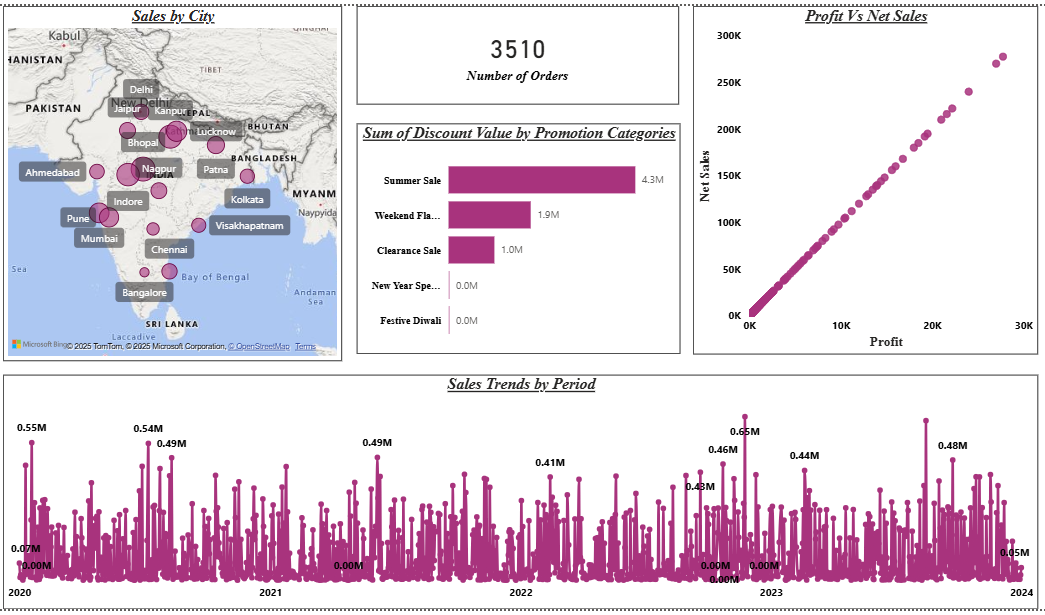

Layout of this report page (visuals, bound fields, positions):
{"tool":"powerbi","page":{"name":"Overview","canvas":[1280,720],"ordinal":0},"visuals":[{"type":"lineChart","title":"Sales Trends by Period","fields":{"Y":["Sum(Fact Table.Net Sales  )"],"Category":["Fact Table.Date (dd/mm/yyyy).Variation.Date Hierarchy.Year"]},"box":[23.2,440.2,1236.3,280],"z":0},{"type":"scatterChart","title":"Profit Vs Net Sales  ","fields":{"X":["Fact Table.Profit"],"Y":["Fact Table.Net Sales  "]},"box":[847.4,0,412.1,415.8],"z":1000},{"type":"barChart","title":"Sum of Discount Value   by Promotion Categories","fields":{"Y":["Sum(Fact Table.Discount Value  )"],"Category":["Dim Promotion.Promotion Name"]},"box":[446.3,140.6,386.4,275.1],"z":2000},{"type":"map","title":"Sales   by City","fields":{"Category":["Dim Customers.City"],"Size":["Sum(Fact Table.Net Sales  )"]},"box":[23.2,0,404.8,424.3],"z":3000},{"type":"card","fields":{"Values":["Count(Fact Table.Order ID)"]},"box":[446.3,0,385.2,117.4],"z":4000}]}

Visuals, with their boxes in screenshot pixels (x1, y1, x2, y2):
"Sales Trends by Period" lineChart: <box>3,373,1035,607</box>
"Profit Vs Net Sales  " scatterChart: <box>691,5,1035,353</box>
"Sum of Discount Value   by Promotion Categories" barChart: <box>356,123,679,352</box>
"Sales   by City" map: <box>3,5,341,360</box>
card - Count(Fact Table.Order ID): <box>356,5,678,103</box>
